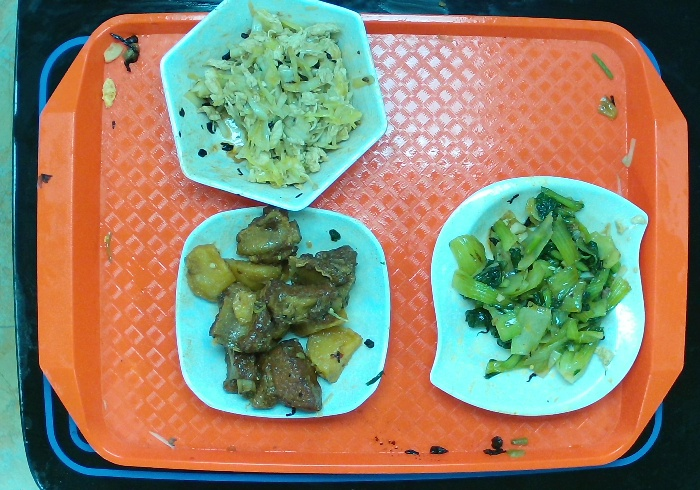RJxy-Liu_Jiao_Wan: (155, 1, 390, 216)
RJxy-Shuang_Jiao_Pan: (422, 172, 649, 422)
RJxy-Si_Fang_Wan: (170, 204, 399, 418)
